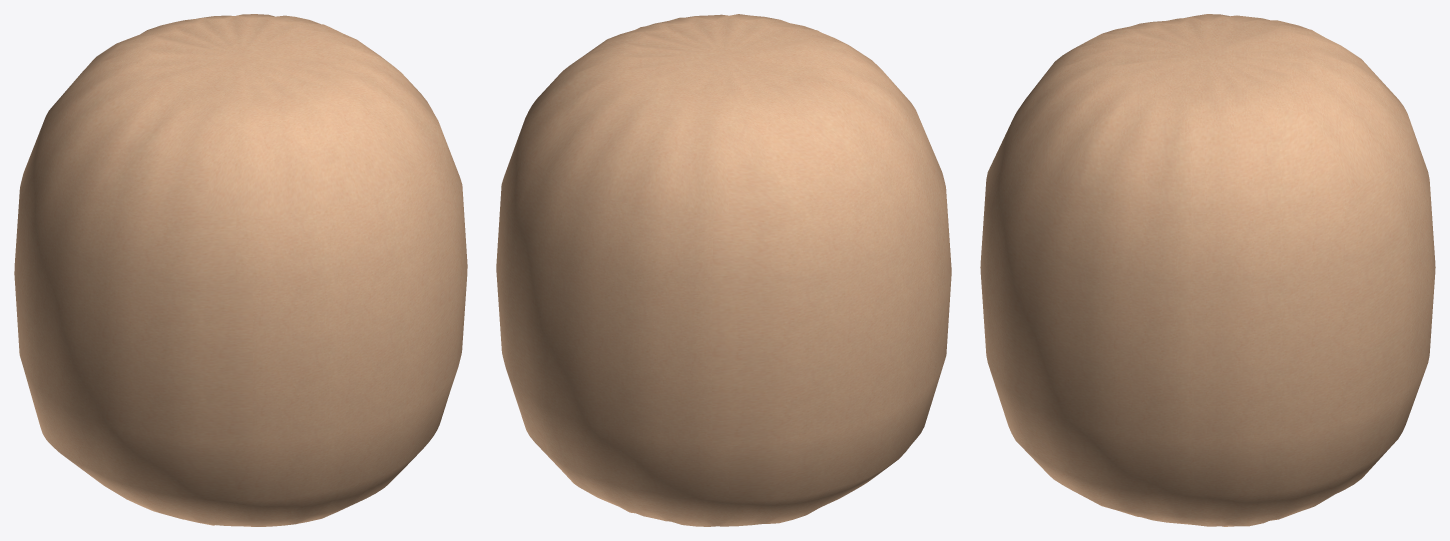
Rendered from ResidualLimbUpperDefault.fbx.
3 renders of one model, left to right at view 1: azimuth 30°, elevation 25°; view 2: azimuth 150°, elevation 25°; view 3: azimuth 270°, elevation 25°, orthographic.
Visible parts, largest first — view 1: pCylinder1; view 2: pCylinder1; view 3: pCylinder1.
Boxes of the visible parts, bbox=[...] form: pCylinder1: bbox=[14, 14, 467, 526]; pCylinder1: bbox=[496, 14, 951, 526]; pCylinder1: bbox=[980, 14, 1435, 526].
Bounding box in the file's own units: 9.6 × 10.07 × 9.6.
1 material, 1 textured.
